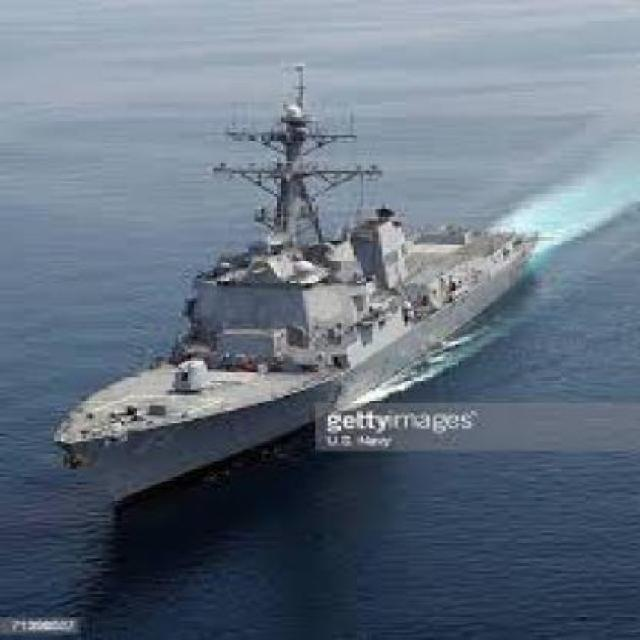warship2: (58, 59, 552, 541)
